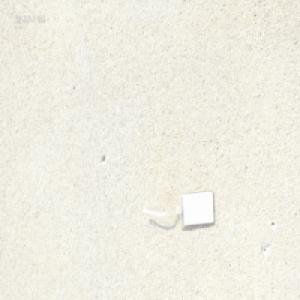LuggageTag: (143, 188, 215, 229)
